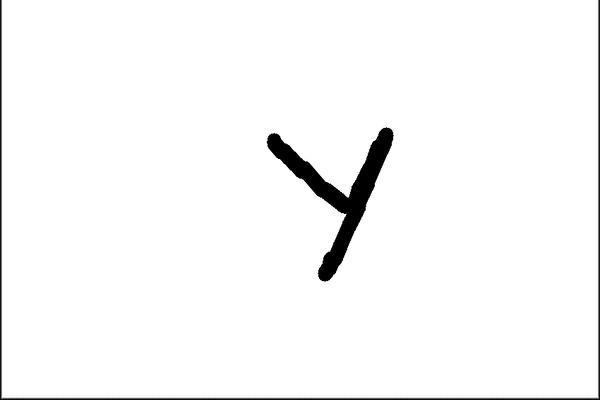Y: (253, 113, 401, 284)
